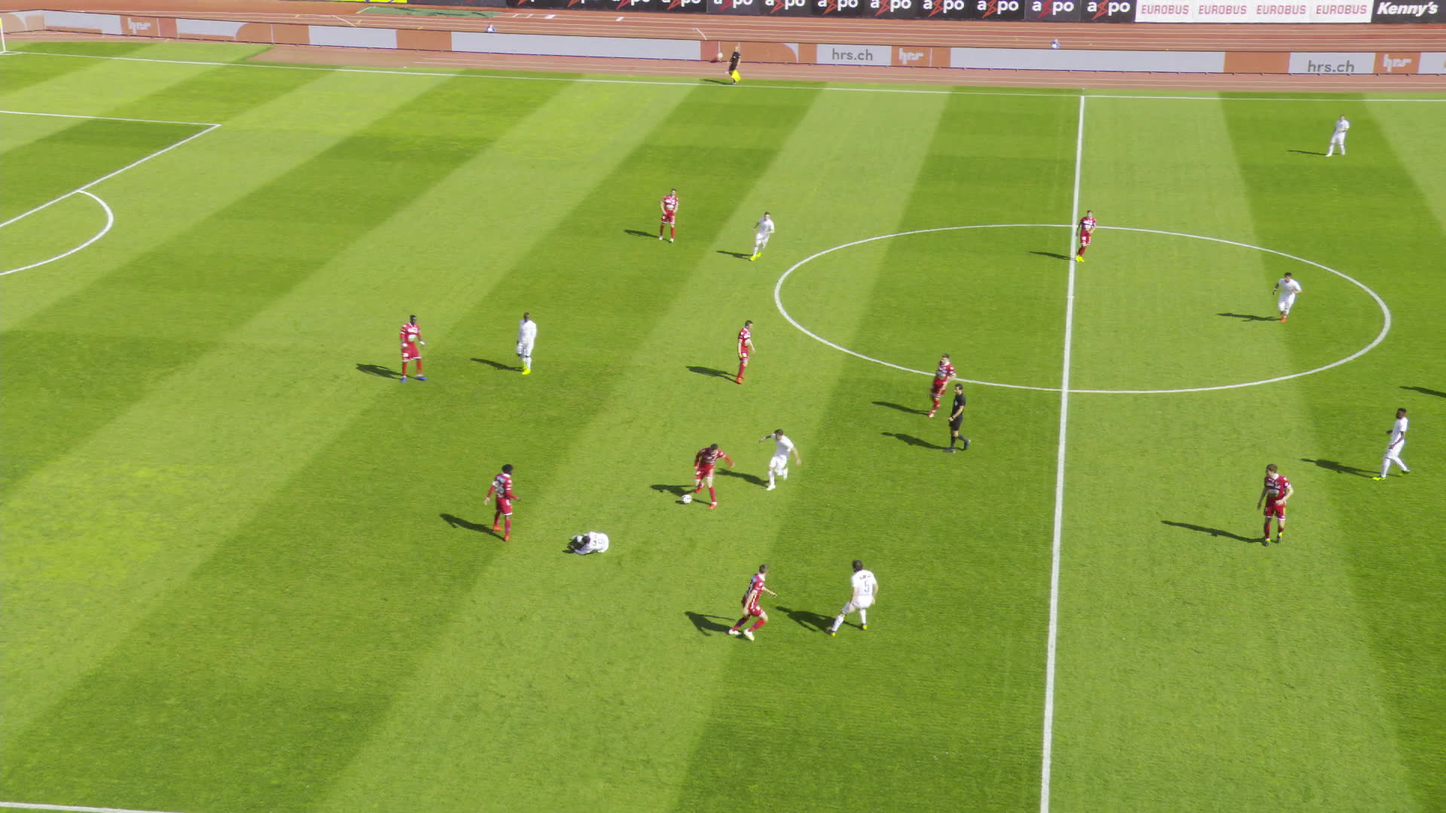ball: (685, 494, 696, 504)
player: (828, 560, 878, 637), (692, 438, 743, 504), (732, 560, 773, 638), (1259, 464, 1294, 549), (487, 464, 523, 541), (762, 426, 808, 486), (1374, 407, 1411, 481), (395, 318, 435, 383), (929, 354, 959, 418), (1274, 271, 1304, 324), (517, 312, 542, 375), (736, 321, 757, 384), (1072, 210, 1097, 262), (660, 189, 682, 244), (752, 212, 777, 259), (569, 530, 611, 556), (1327, 114, 1352, 157)
referee: (944, 384, 969, 453), (728, 47, 743, 85)
